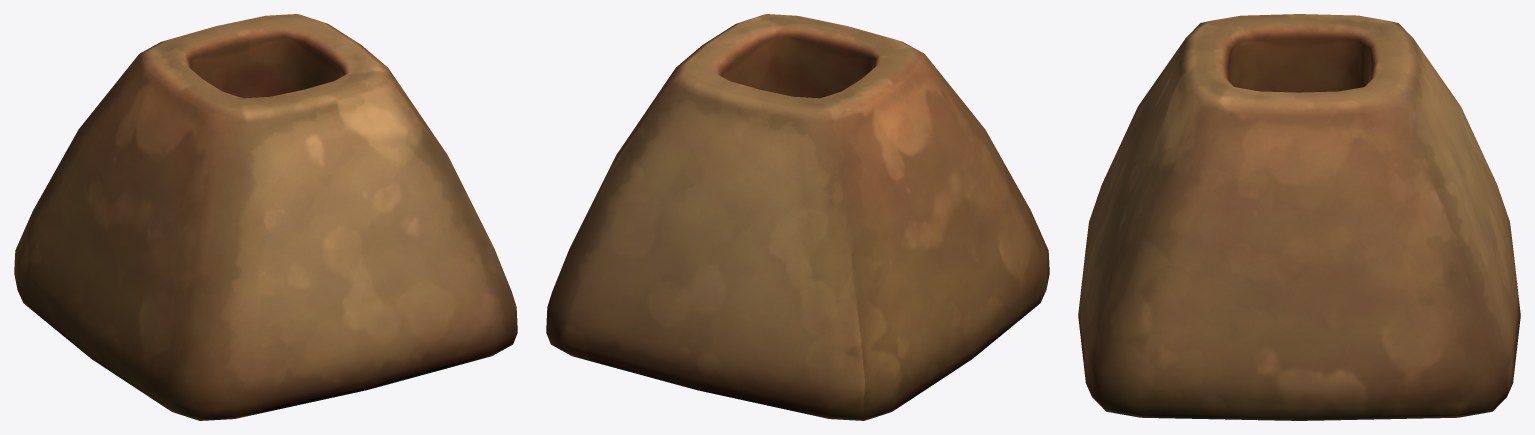
Rendered from SM_Vase_02.fbx.
3 views of the same model, side by side, from view 1: azimuth 30°, elevation 25°; view 2: azimuth 150°, elevation 25°; view 3: azimuth 270°, elevation 25° (orthographic). The views are drawn at different scales.
Parts seen in each view (by area): view 1: SM_Vase_02_LOD0; view 2: SM_Vase_02_LOD0; view 3: SM_Vase_02_LOD0.
Part boxes in pixels (box(x1,y1,x2,y2)): SM_Vase_02_LOD0: box(14, 14, 517, 420); SM_Vase_02_LOD0: box(546, 14, 1049, 420); SM_Vase_02_LOD0: box(1078, 14, 1520, 420).
Bounding box in the file's own units: 36.44 × 36.44 × 24.62.
Materials: 1 (1 with a texture image).
